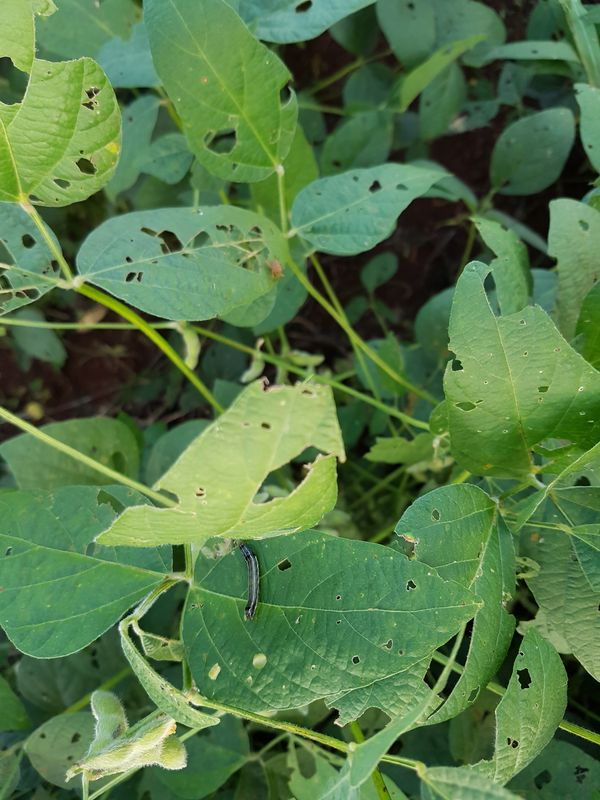Spodoptera_albula: (218, 530, 284, 629)
